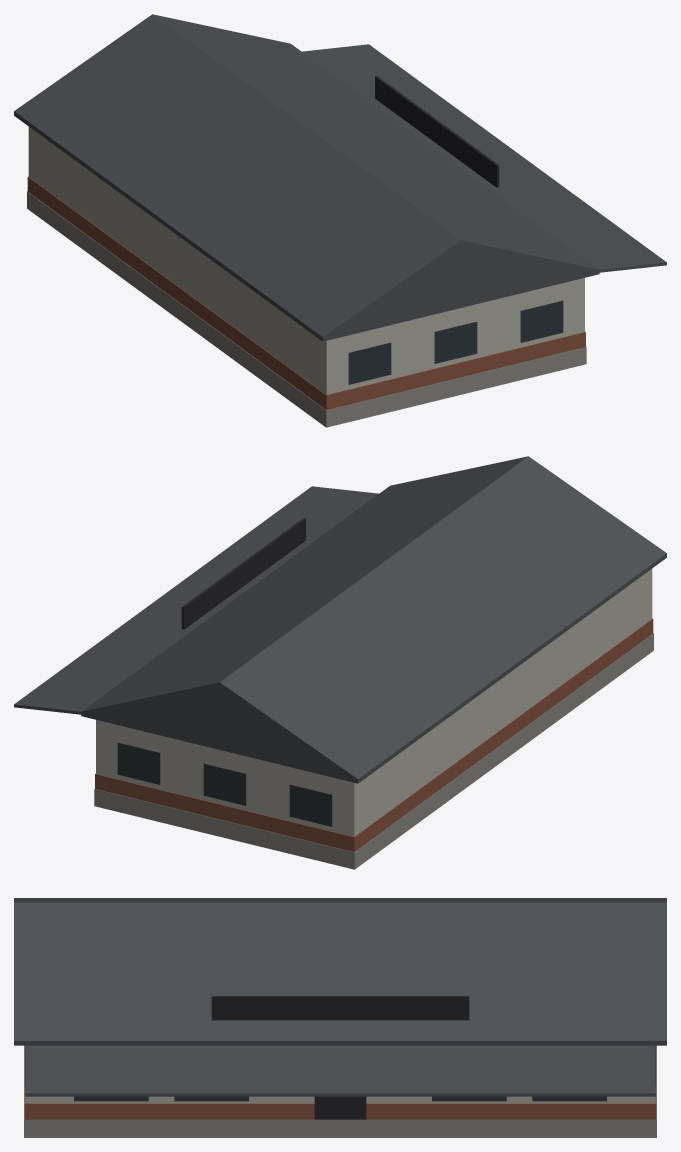
The model's file is SM_Prop_cafe_building_15_LOD2.glb.
The picture shows the model from 3 angles, top to bottom: view 1: azimuth 30°, elevation 25°; view 2: azimuth 150°, elevation 25°; view 3: azimuth 270°, elevation 25°; orthographic projection. The views are drawn at different scales.
Parts seen in each view (by area): view 1: SM_Prop_cafe_building_15_LOD2; view 2: SM_Prop_cafe_building_15_LOD2; view 3: SM_Prop_cafe_building_15_LOD2.
Boxes of the visible parts, x1,y1,x2,y2 form: SM_Prop_cafe_building_15_LOD2: (14,14,666,427); SM_Prop_cafe_building_15_LOD2: (14,456,666,869); SM_Prop_cafe_building_15_LOD2: (14,898,666,1137).
Bounding box in the file's own units: 14.9 × 6.48 × 22.8.
